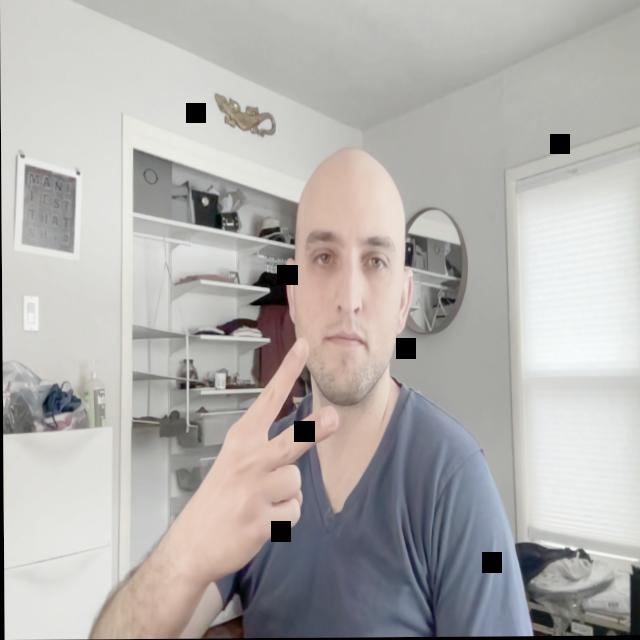Scissors: (171, 334, 341, 572)
